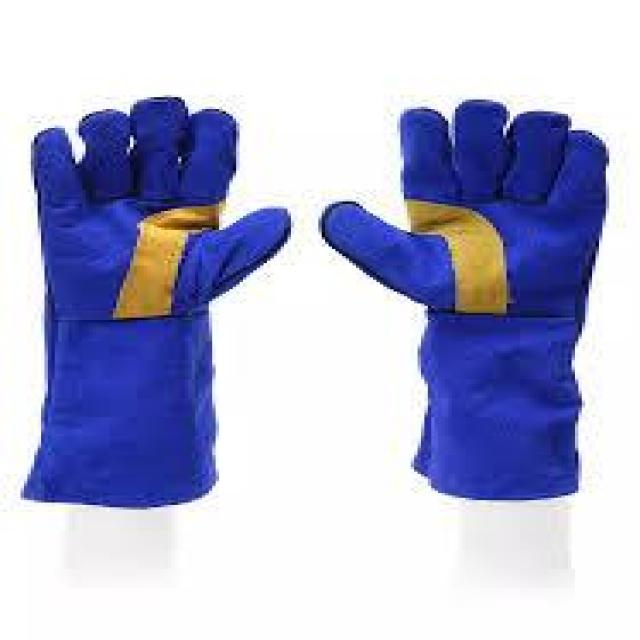Gloves: (312, 95, 614, 514), (8, 92, 291, 518)
